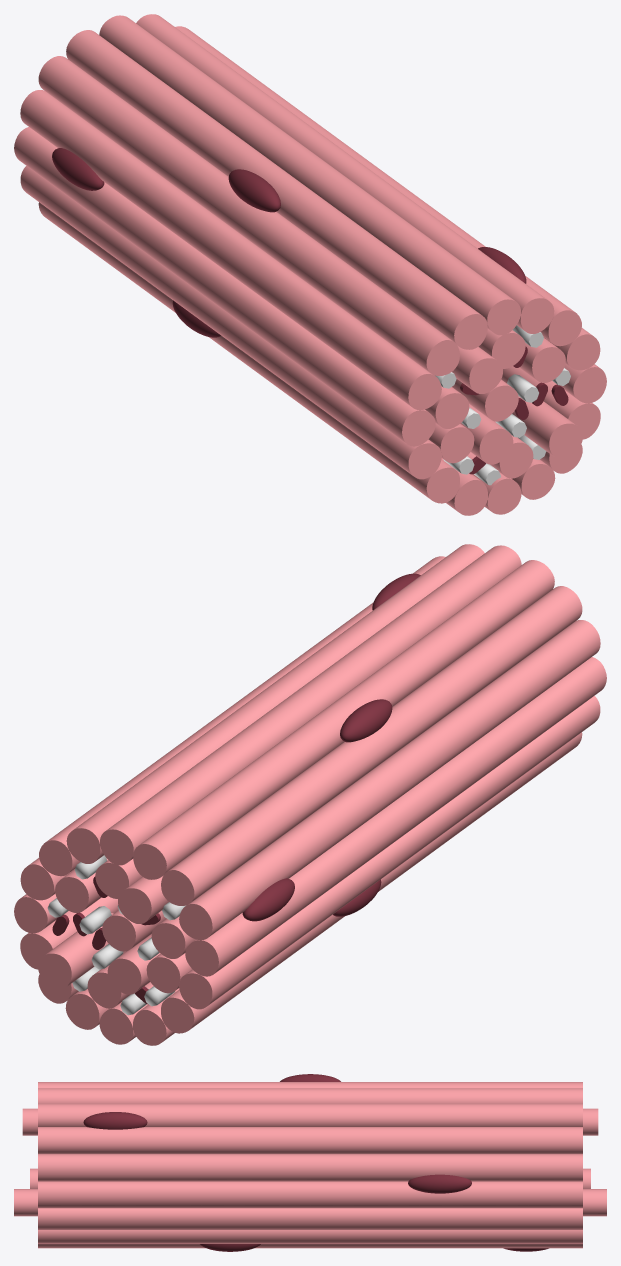
Rendered from skeletal_muscle_cell_anatomy.glb.
3 renders of one model, top to bottom at view 1: azimuth 30°, elevation 25°; view 2: azimuth 150°, elevation 25°; view 3: azimuth 270°, elevation 25°, orthographic. The views are drawn at different scales.
Parts seen in each view (by area): view 1: Main_0, Main.Inner_1, Blood.Outer_4, WhiteStuff_2, Red Cells_3; view 2: Main_0, Main.Inner_1, Blood.Outer_4, WhiteStuff_2, Red Cells_3; view 3: Main_0, Blood.Outer_4, Main.Inner_1.
Boxes of the visible parts, x1,y1,x2,y2 form: Main_0: (14, 14, 606, 515); Main.Inner_1: (425, 329, 582, 478); Blood.Outer_4: (52, 148, 526, 337); WhiteStuff_2: (435, 325, 570, 485); Red Cells_3: (460, 346, 568, 474); Main_0: (14, 544, 606, 1045); Main.Inner_1: (38, 858, 195, 1008); Blood.Outer_4: (242, 573, 420, 921); WhiteStuff_2: (47, 855, 185, 1015); Red Cells_3: (52, 876, 160, 1004); Main_0: (38, 1082, 582, 1248); Blood.Outer_4: (83, 1074, 548, 1251); Main.Inner_1: (14, 1108, 606, 1216).
Bounding box in the file's own units: 0.0419 × 0.0413 × 0.1428.
